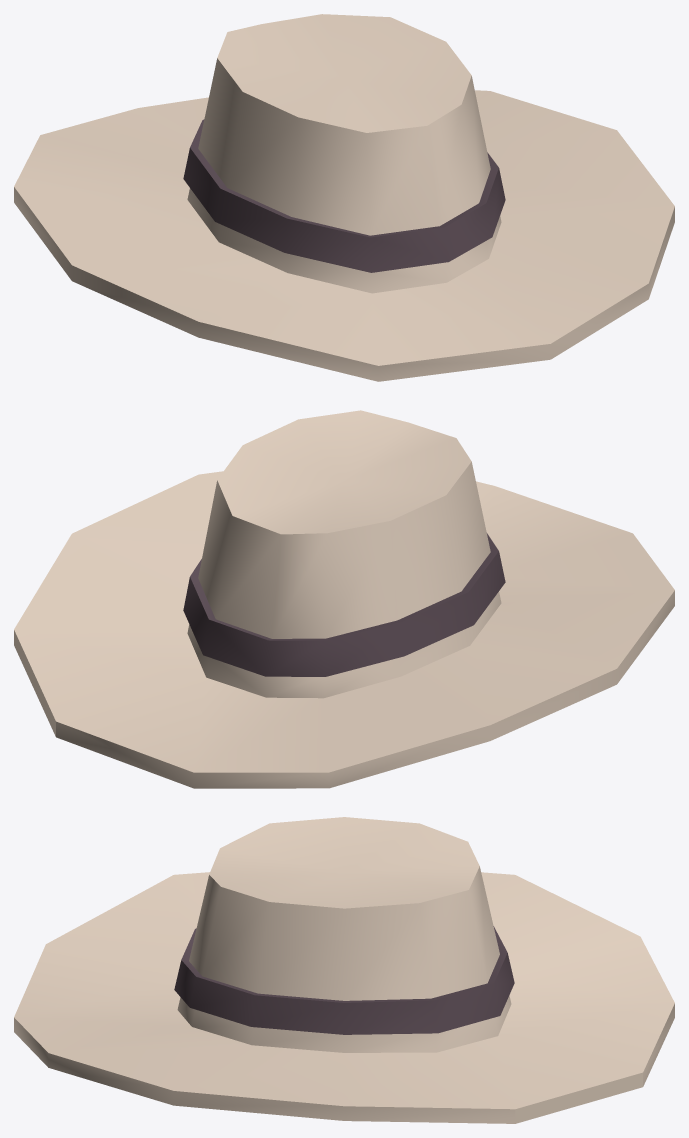
Rendered from SM_Fedora_1_01.fbx.
3 views of the same model, one above another, from view 1: azimuth 30°, elevation 25°; view 2: azimuth 150°, elevation 25°; view 3: azimuth 270°, elevation 25° (orthographic). The views are drawn at different scales.
Visible parts, largest first — view 1: SM_Fedora_1_01; view 2: SM_Fedora_1_01; view 3: SM_Fedora_1_01.
Boxes of the visible parts, left/top/right/bottom form: SM_Fedora_1_01: left=14, top=14, right=674, bottom=381; SM_Fedora_1_01: left=14, top=410, right=674, bottom=788; SM_Fedora_1_01: left=14, top=817, right=674, bottom=1123.
Bounding box in the file's own units: 36.8 × 11.69 × 41.73.
